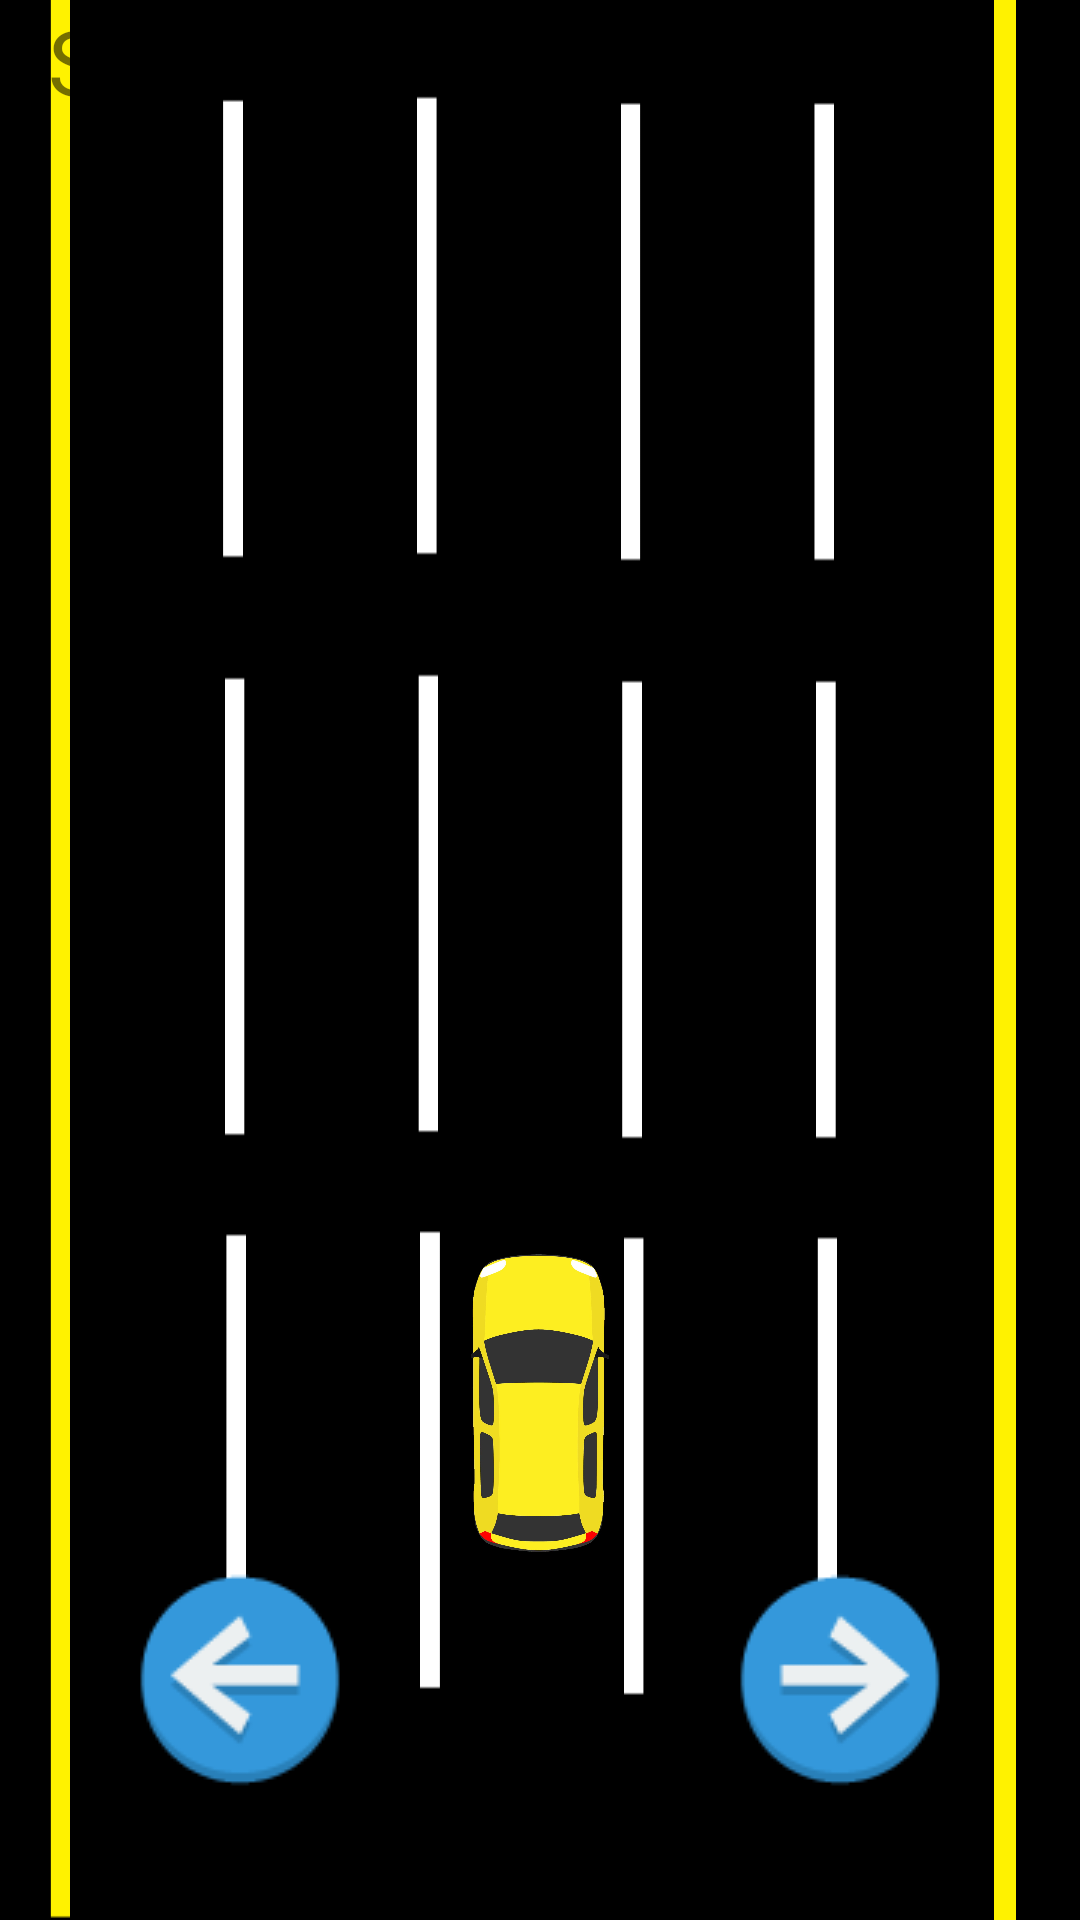

Icons on this 1080w x 1920h Android screen, each with the point to tap as point (x, y):
signleft: point (240, 1660)
signright: point (840, 1660)
